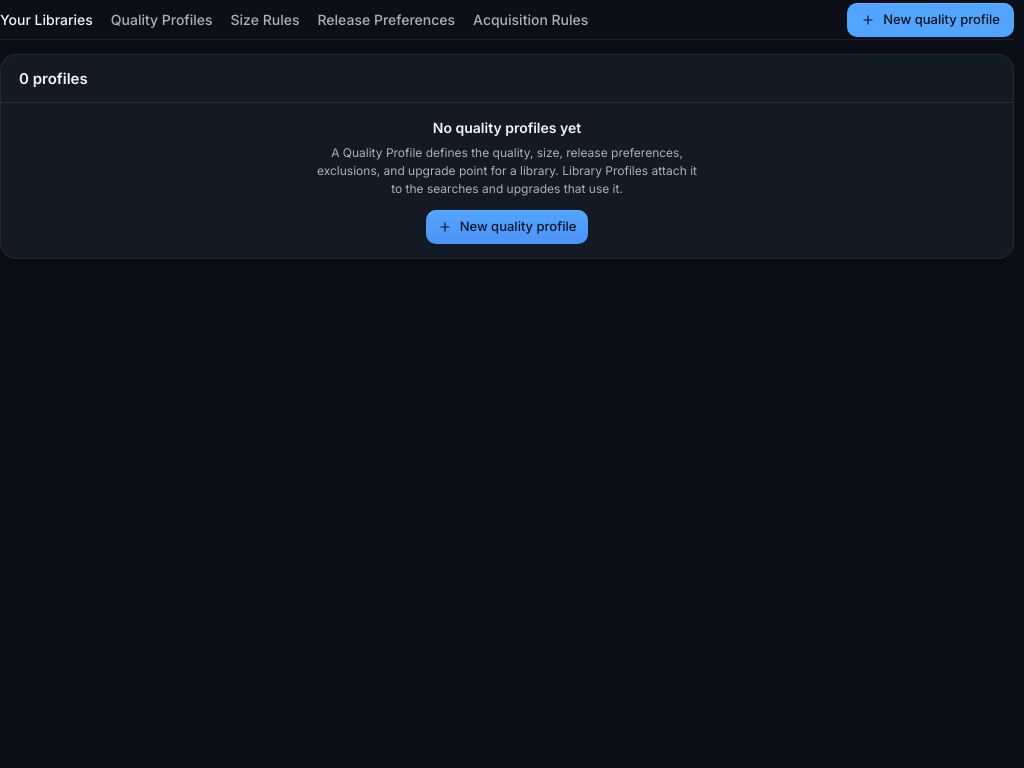
Scenario: Add the recommended formats › is on for a new profile and says how many of the guide's preference rules it will add
Click the button "New quality profile" in the row of "Acquisition Rules". click: point(931, 20)
box: [847,2,1014,36]
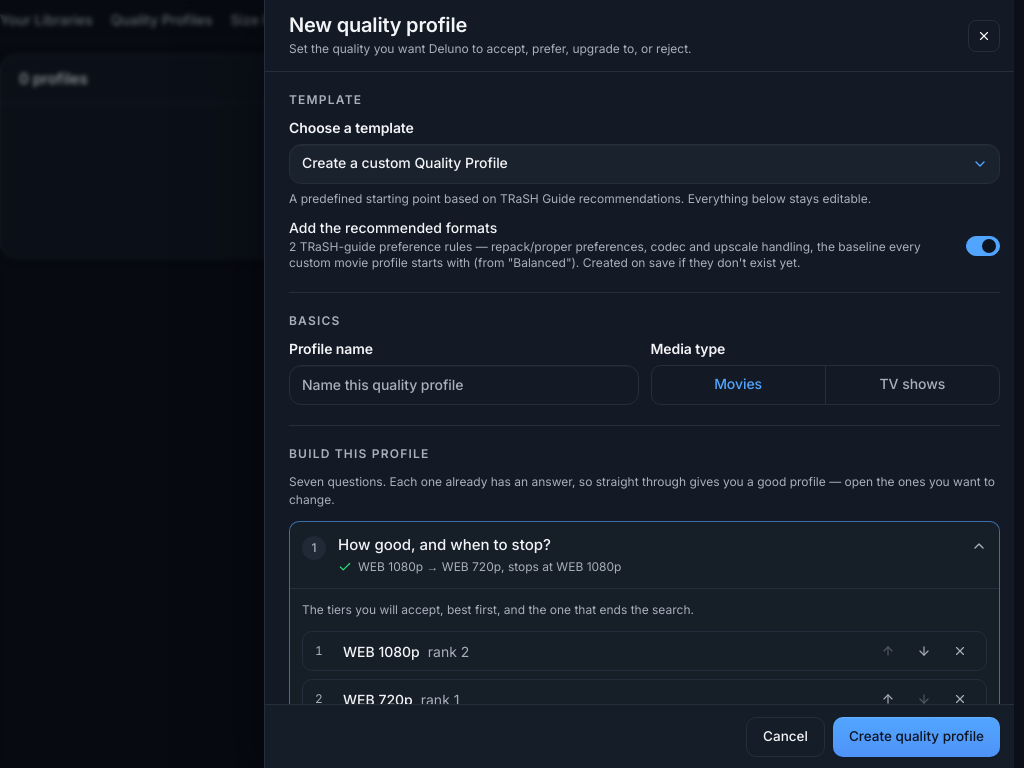
Result: the text "2 TRaSH-guide preference rules" is shown at [289,239,921,270]
